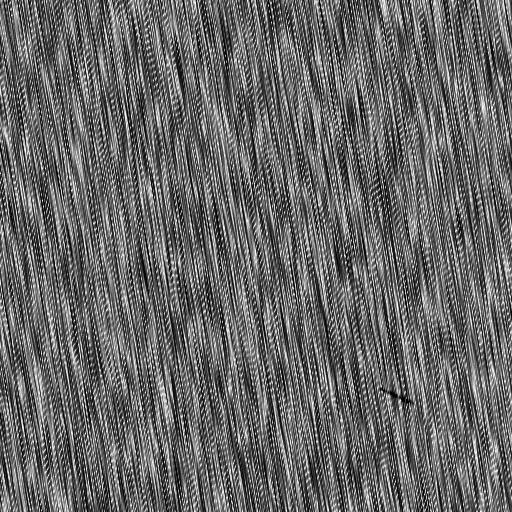DefectTypeC: (375, 382, 417, 410)
